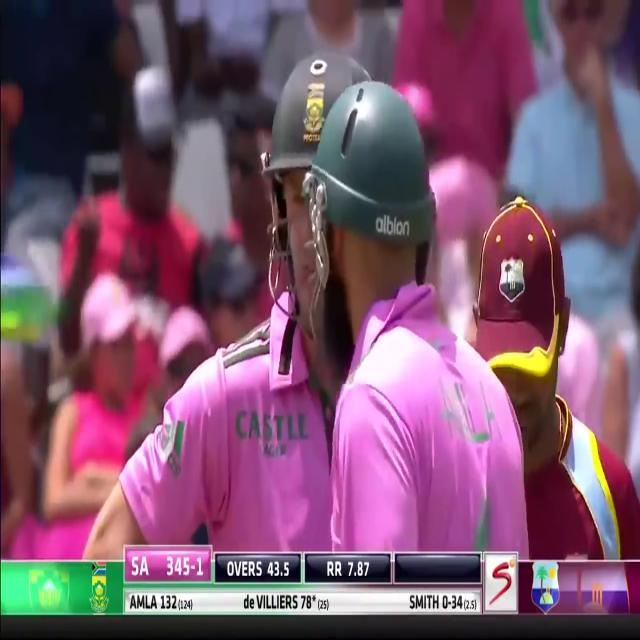Ball: (81, 58, 392, 562), (305, 79, 527, 557)
Fielder: (458, 155, 640, 556)
